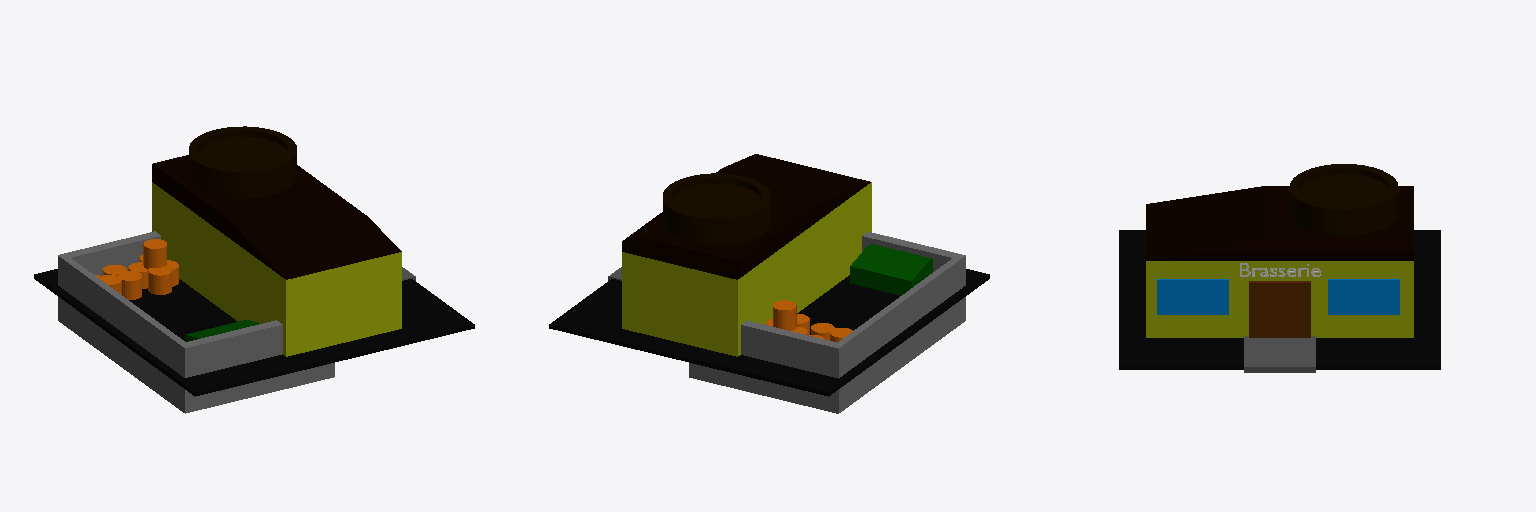
File: brewery.obj
The picture shows the model from 3 angles: view 1: azimuth 30°, elevation 25°; view 2: azimuth 150°, elevation 25°; view 3: azimuth 270°, elevation 25°; orthographic projection.
Parts seen in each view (by area): view 1: Cube.001, Cube.005, Cube, Cylinder, Cylinder.004, Cube.006; view 2: Cube.001, Cube.005, Cube, Cylinder, Cube.006, Cylinder.004; view 3: Cube.001, Cube, Cylinder, Cube.002, Cube.003, Cube.004, Cube.007.
Boxes of the visible parts, x1=… form: Cube.001: x1=152, y1=155, x2=401, y2=356; Cube.005: x1=58, y1=231, x2=334, y2=413; Cube: x1=34, y1=269, x2=474, y2=396; Cylinder: x1=189, y1=126, x2=296, y2=198; Cylinder.004: x1=95, y1=239, x2=178, y2=299; Cube.006: x1=185, y1=320, x2=259, y2=341; Cube.001: x1=622, y1=154, x2=871, y2=356; Cube.005: x1=689, y1=232, x2=965, y2=413; Cube: x1=549, y1=269, x2=989, y2=396; Cylinder: x1=663, y1=173, x2=770, y2=245; Cube.006: x1=850, y1=244, x2=932, y2=295; Cylinder.004: x1=766, y1=300, x2=852, y2=342; Cube.001: x1=1146, y1=186, x2=1413, y2=337; Cube: x1=1119, y1=230, x2=1440, y2=369; Cylinder: x1=1290, y1=164, x2=1398, y2=235; Cube.002: x1=1249, y1=281, x2=1310, y2=337; Cube.003: x1=1157, y1=279, x2=1228, y2=314; Cube.004: x1=1328, y1=279, x2=1399, y2=314; Cube.007: x1=1244, y1=336, x2=1315, y2=372.
Bounding box in the file's own units: 9.06 × 4.8 × 8.95.